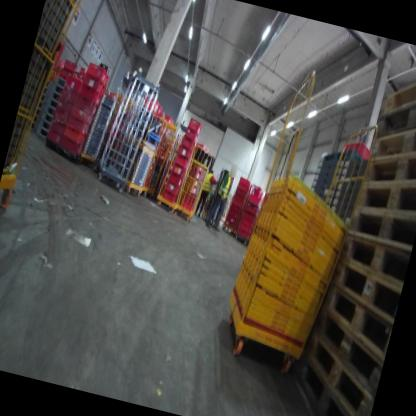pallet: (302, 299, 394, 398), (292, 328, 387, 416), (314, 279, 399, 362), (286, 349, 380, 416), (325, 250, 407, 325), (332, 225, 413, 292), (356, 164, 416, 227), (347, 200, 416, 254), (361, 132, 416, 196), (375, 71, 416, 152), (369, 105, 416, 170), (384, 53, 416, 124)
